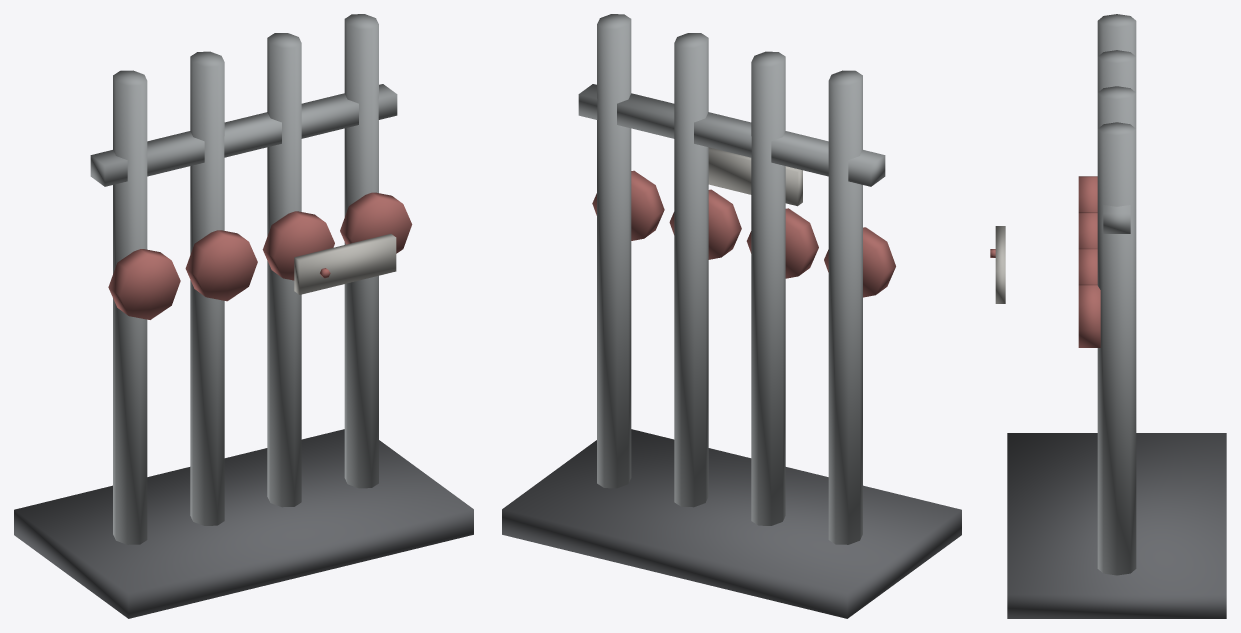
The model's file is radiator_manifold__deep.glb.
3 views of the same model, side by side, from view 1: azimuth 30°, elevation 25°; view 2: azimuth 150°, elevation 25°; view 3: azimuth 270°, elevation 25° (orthographic). The views are drawn at different scales.
Visible parts, largest first — view 1: world; view 2: world; view 3: world.
Part boxes in pixels (left/top/right/bottom): world: left=14, top=14, right=473, bottom=618; world: left=502, top=14, right=961, bottom=618; world: left=990, top=14, right=1226, bottom=618.
Size of the model in its own units: 0.85 by 1.14 by 0.5258.
